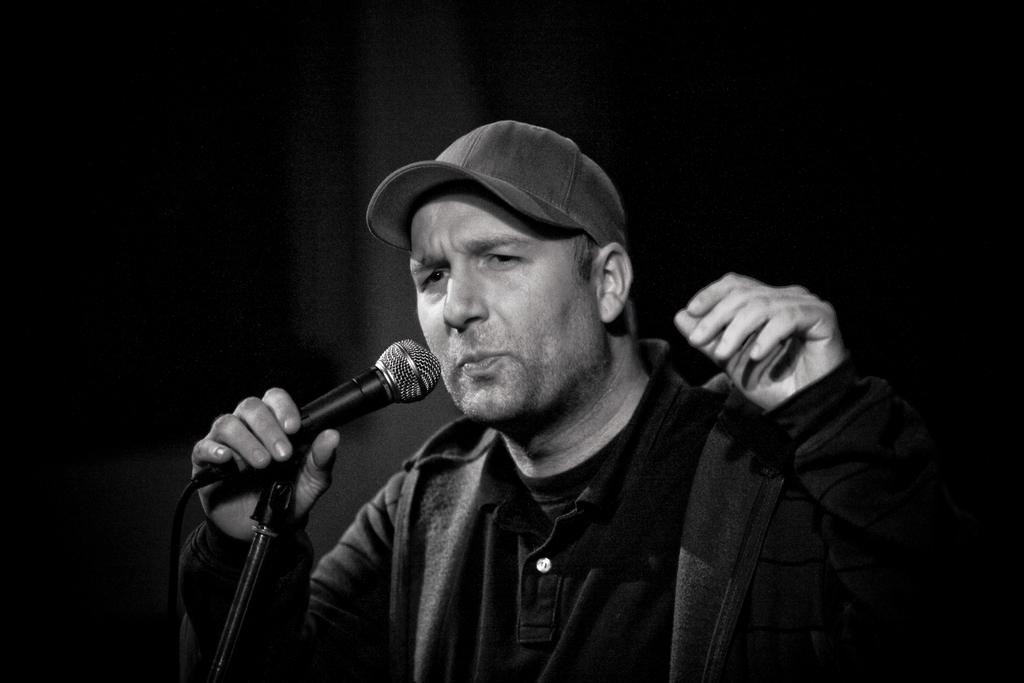Hat: (364, 120, 624, 248)
